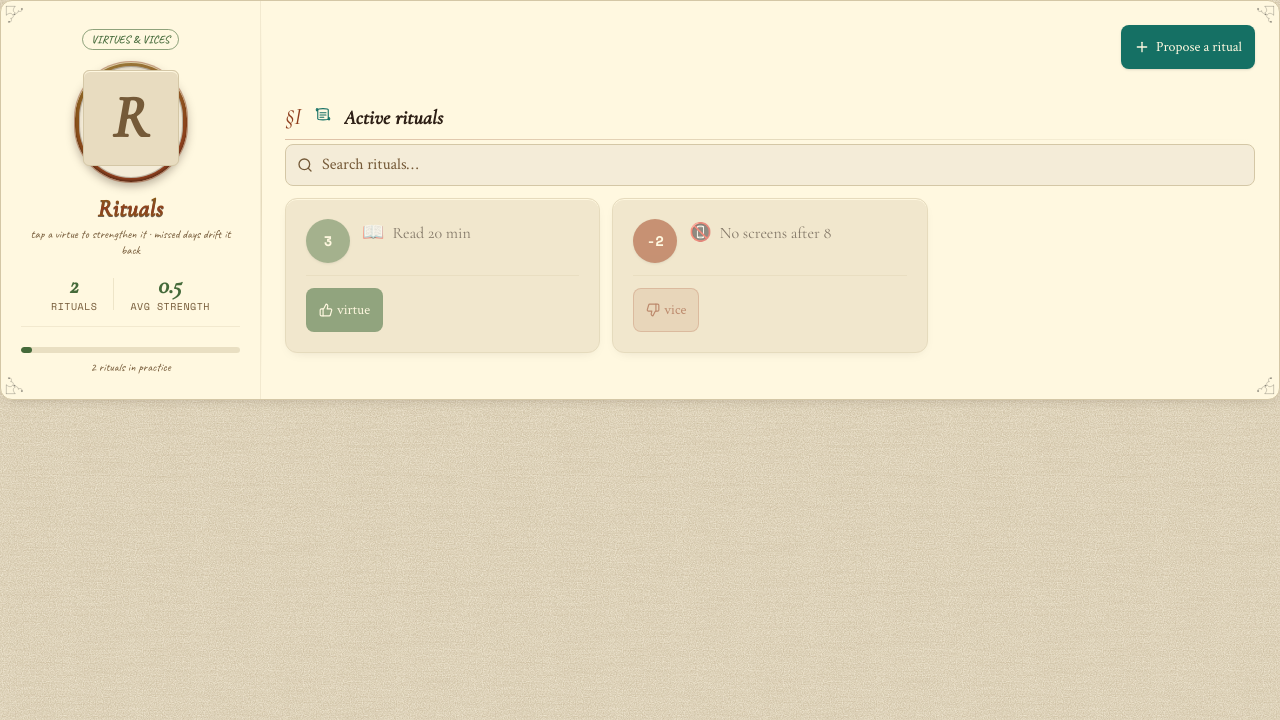
Habits › filters rituals by name via the search input
Expected: the text "Read 20 min" is shown, [392,221,471,245]
Type "read" into the search field named "filter rituals" at (770, 165), box [285,144,1255,186]
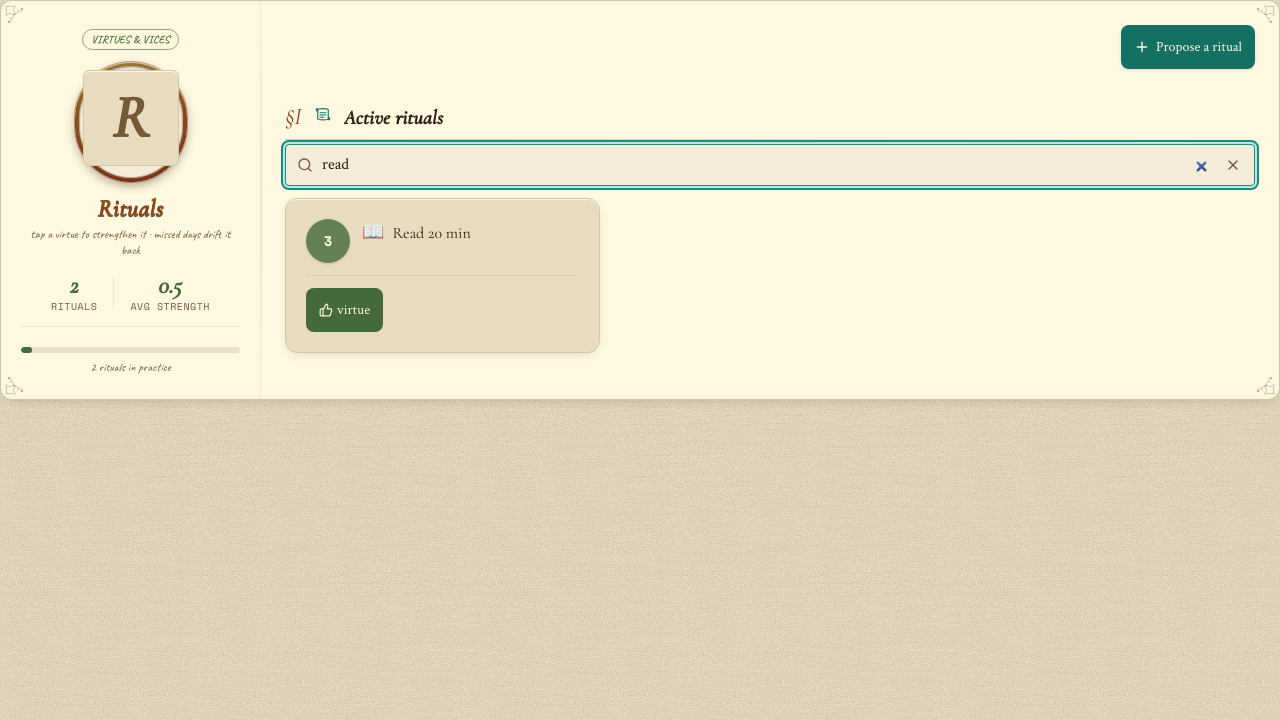
Expected: the text "Read 20 min" is shown, [392,221,471,245]
Expected: the text "No screens" is gone
